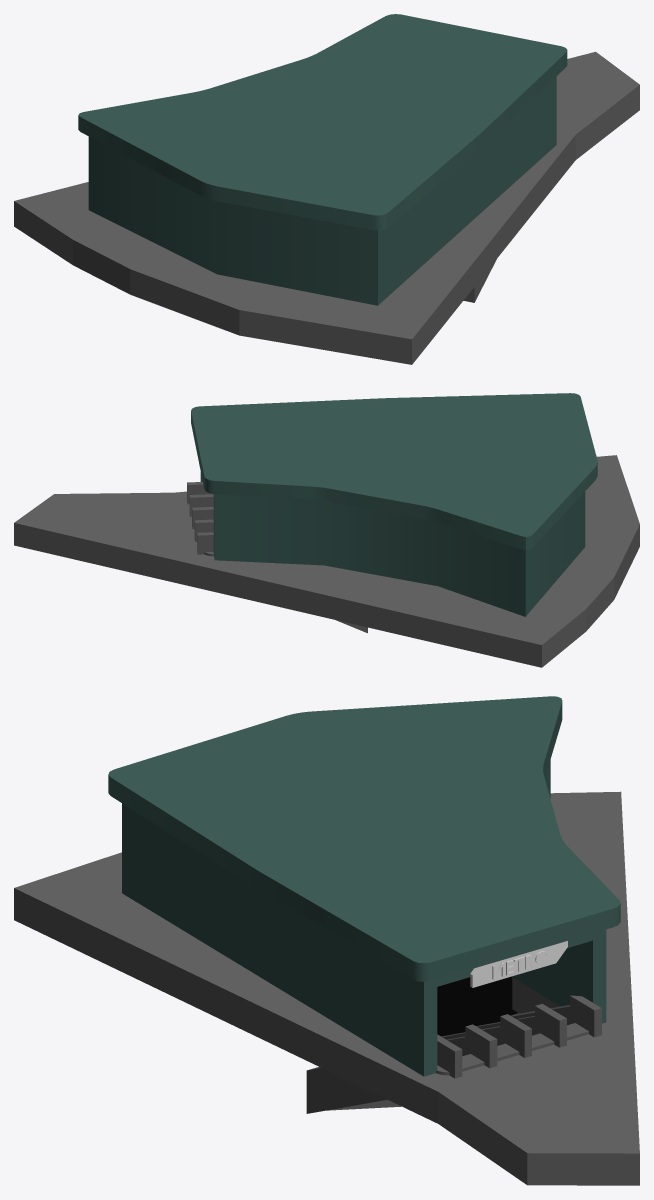
File: b6_metro.fbx
The picture shows the model from 3 angles, top to bottom: view 1: azimuth 30°, elevation 25°; view 2: azimuth 150°, elevation 25°; view 3: azimuth 270°, elevation 25°; orthographic projection. The views are drawn at different scales.
Parts seen in each view (by area): view 1: b6_metro, b6_ground; view 2: b6_metro, b6_ground, b6_metro_gates; view 3: b6_metro, b6_ground, b6_metro_gates, b6_metro_darkness, b6_metro_sign.
Boxes of the visible parts, x1,y1,x2,y2 form: b6_metro: (78, 14, 567, 305); b6_ground: (14, 51, 639, 364); b6_metro: (191, 393, 597, 616); b6_ground: (14, 455, 639, 667); b6_metro_gates: (187, 482, 367, 633); b6_metro: (108, 696, 620, 1076); b6_ground: (14, 791, 639, 1185); b6_metro_gates: (306, 995, 601, 1113); b6_metro_darkness: (437, 976, 518, 1036); b6_metro_sign: (470, 941, 567, 987).
Size of the model in its own units: 4024 by 2943 by 1221.
